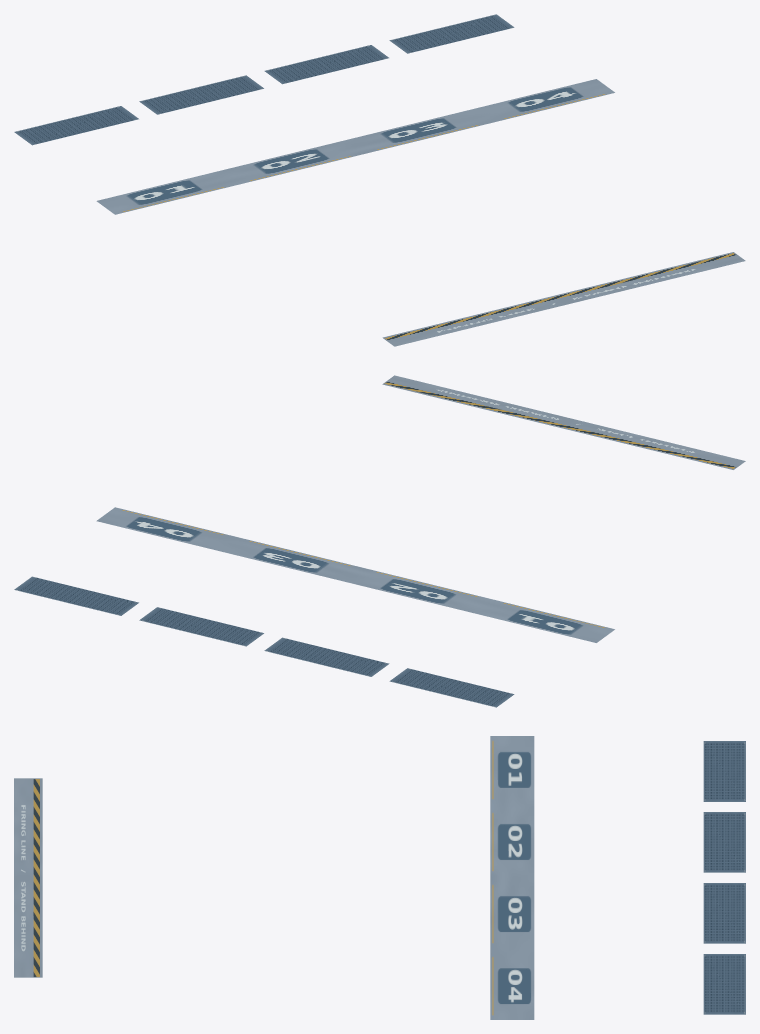
File: SM_FloorMarkings.glb
The picture shows the model from 3 angles, top to bottom: view 1: azimuth 30°, elevation 25°; view 2: azimuth 150°, elevation 25°; view 3: azimuth 270°, elevation 25°; orthographic projection. The views are drawn at different scales.
Visible parts, largest first — view 1: SM_FloorMarkings; view 2: SM_FloorMarkings; view 3: SM_FloorMarkings.
Boxes of the visible parts, x1,y1,x2,y2 form: SM_FloorMarkings: [14, 14, 745, 346]; SM_FloorMarkings: [14, 375, 745, 707]; SM_FloorMarkings: [14, 736, 745, 1019].
Bounding box in the file's own units: 8.4 × 0.002 × 9.16.
Materials: 1 (1 with a texture image).
